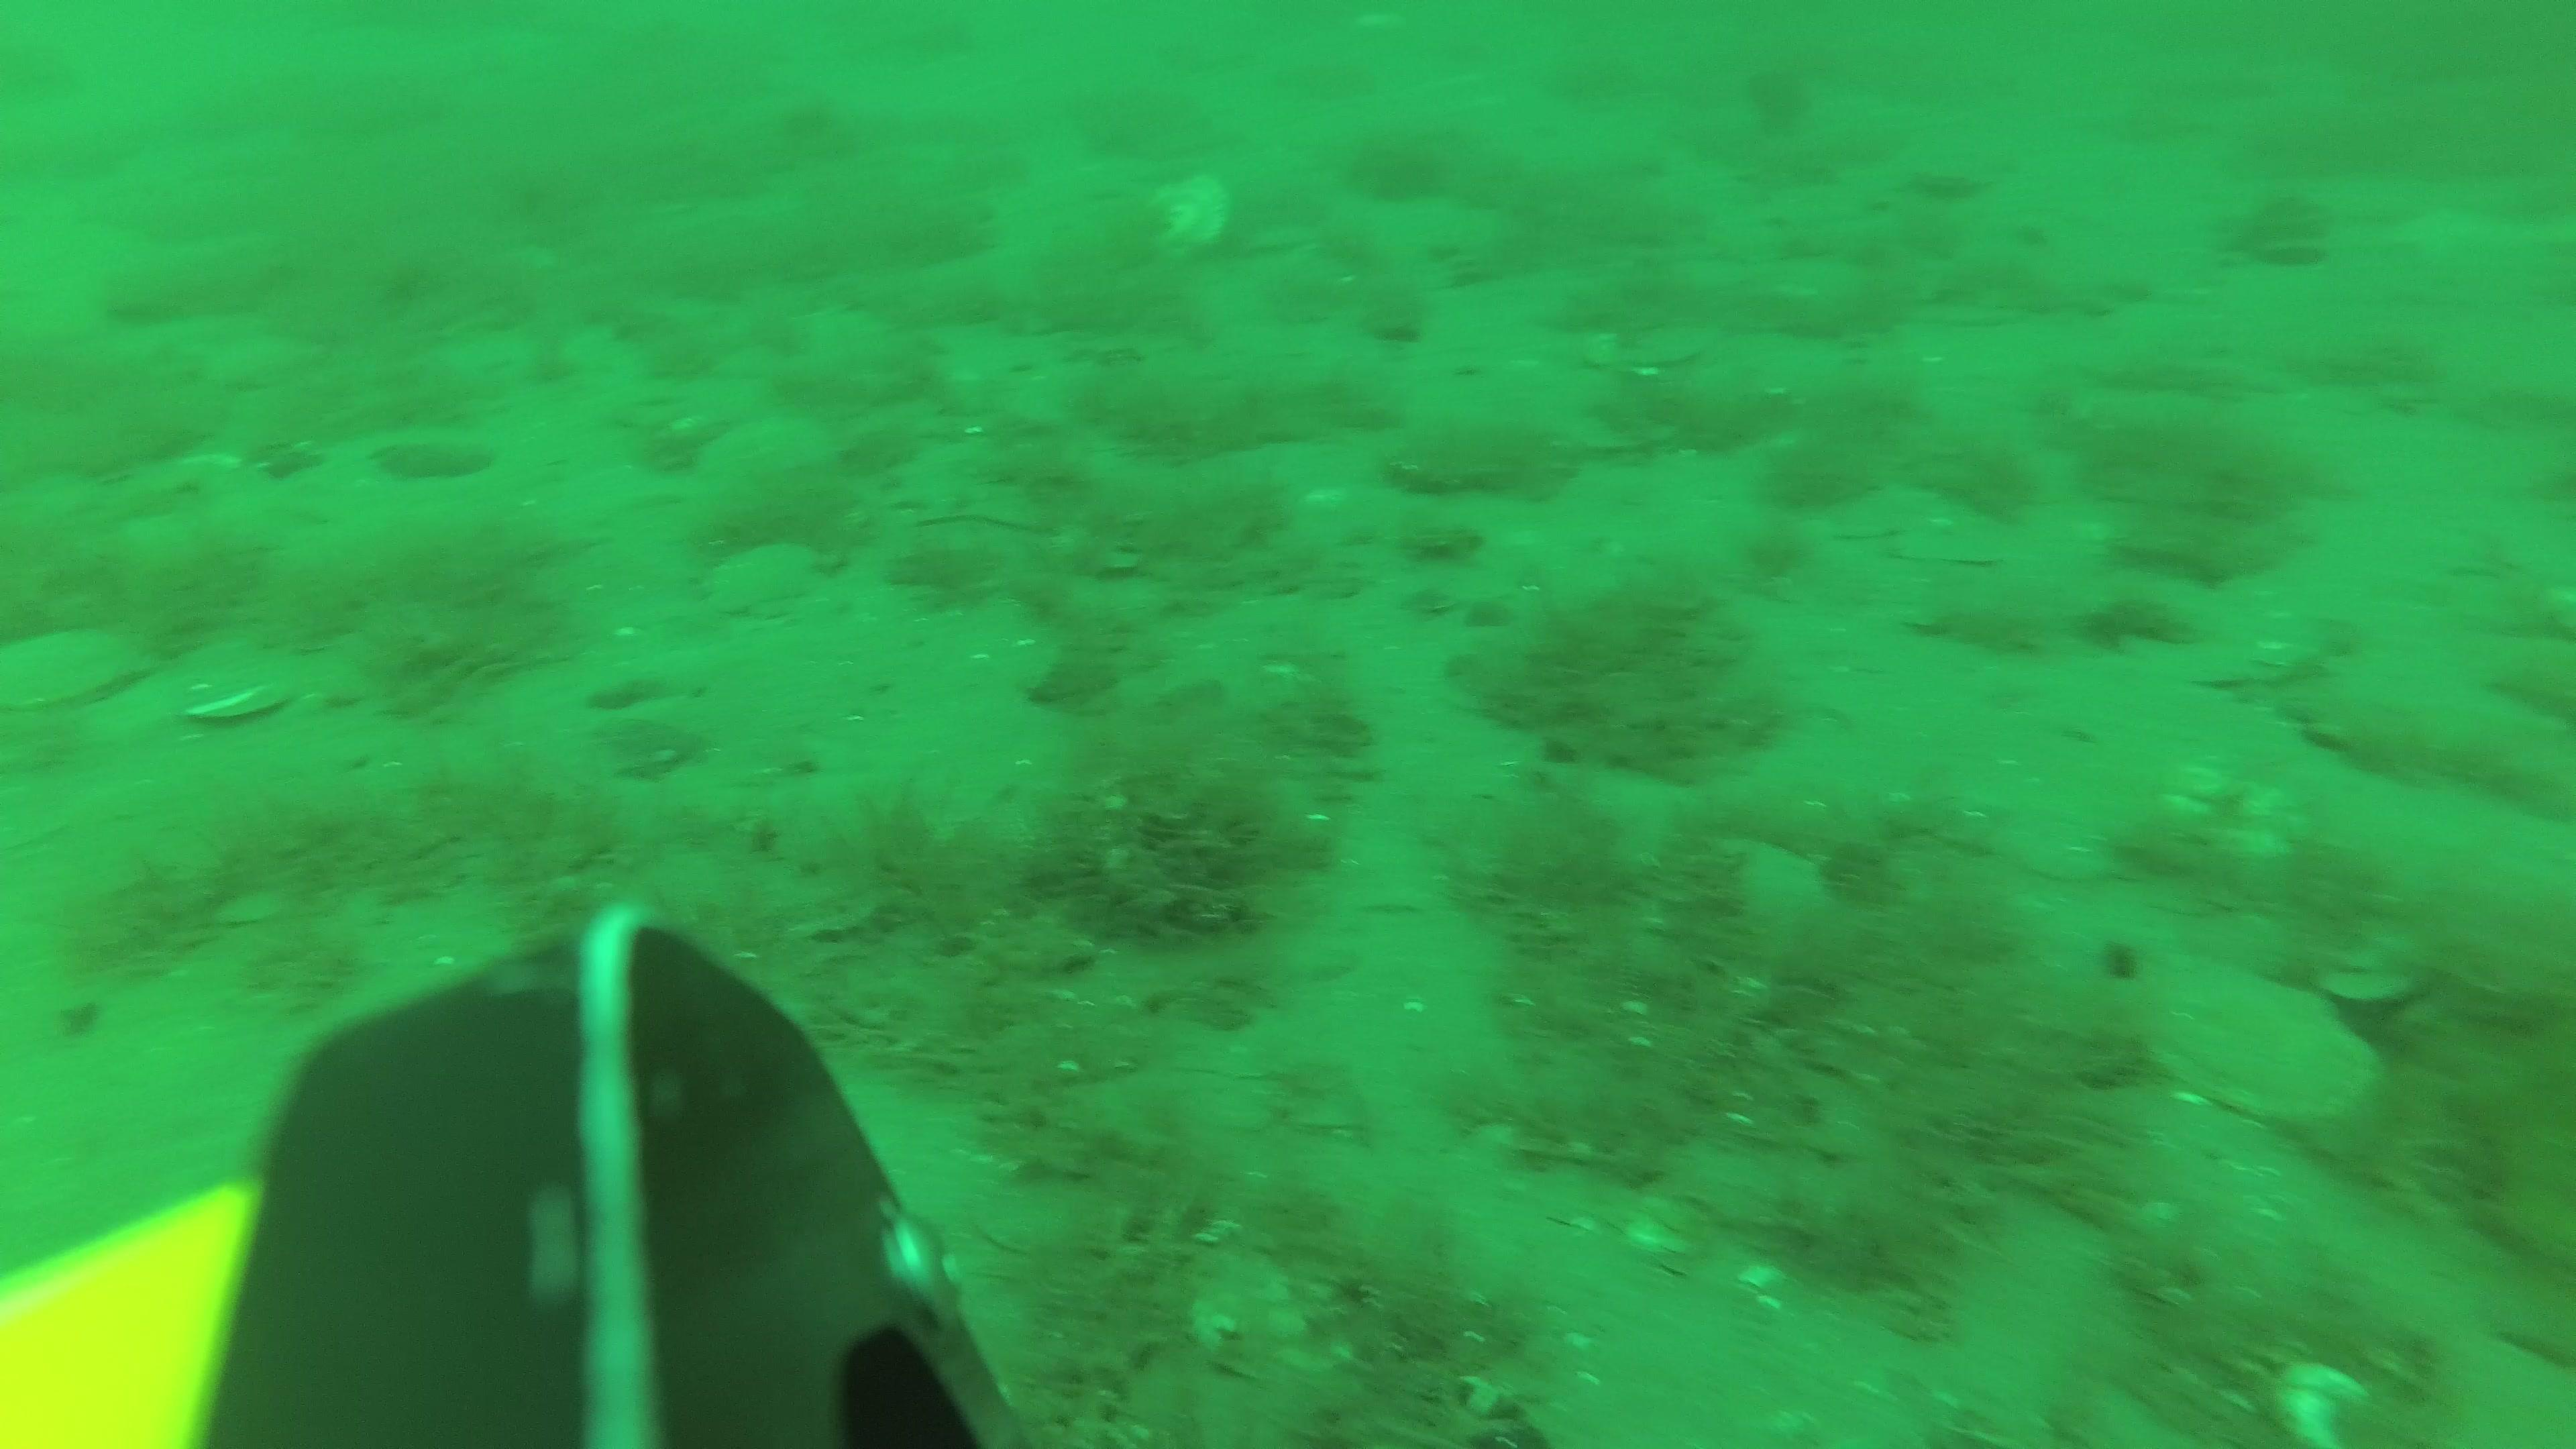scallop: (2151, 952, 2387, 1120), (2157, 759, 2312, 878), (0, 621, 152, 717), (713, 541, 819, 619), (1145, 175, 1235, 260)
